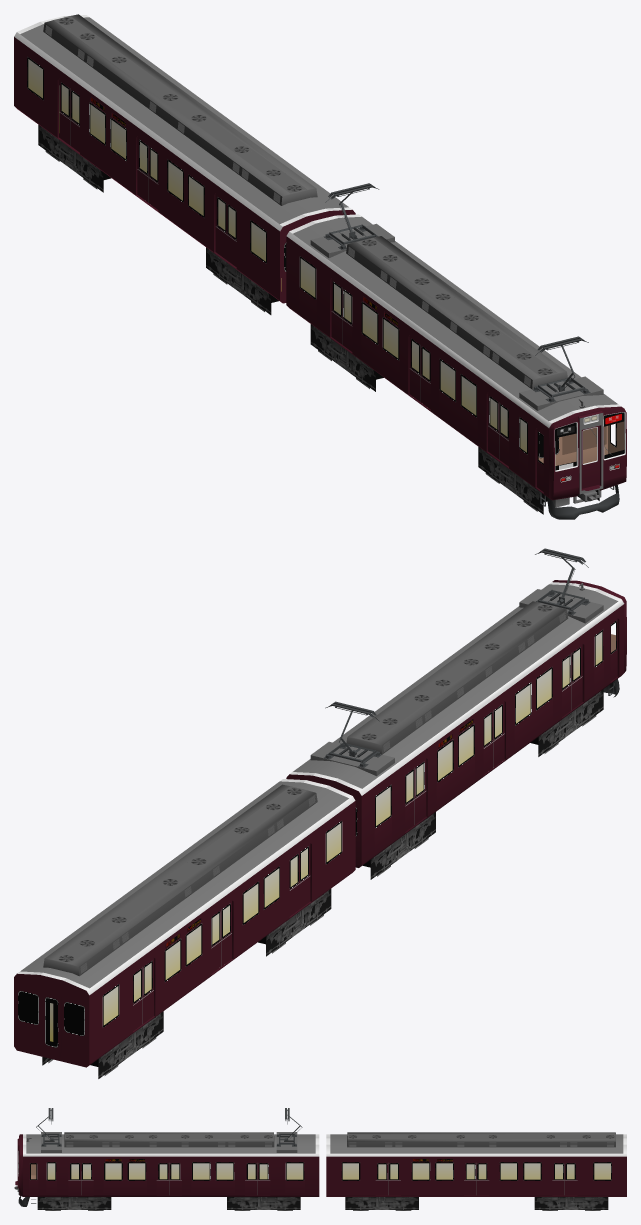
3 renders of one model, top to bottom at view 1: azimuth 30°, elevation 25°; view 2: azimuth 150°, elevation 25°; view 3: azimuth 270°, elevation 25°, orthographic. The views are drawn at different scales.
Visible parts, largest first — view 1: body; view 2: body; view 3: body.
Boxes of the visible parts, <box> form: body: <box>14,14,626,519</box>; body: <box>14,548,626,1078</box>; body: <box>14,1108,626,1210</box>.
Bounding box in the file's own units: 6.25 × 12.57 × 77.72.
Materials: 18 (17 with a texture image).
